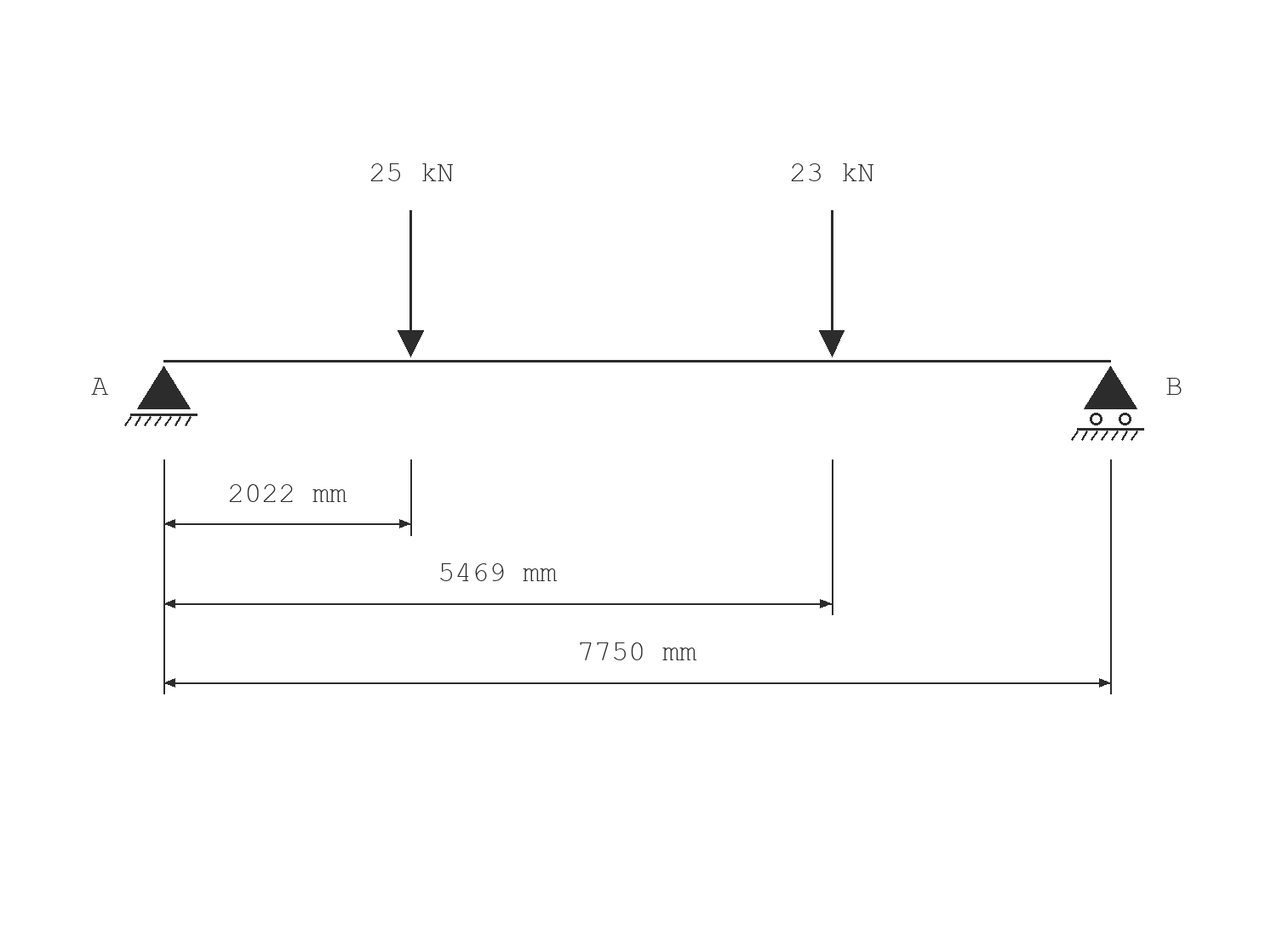pin_support: (124, 366, 198, 426)
point_load: (398, 210, 424, 357), (819, 210, 845, 357)
roller_support: (1071, 366, 1144, 441)
